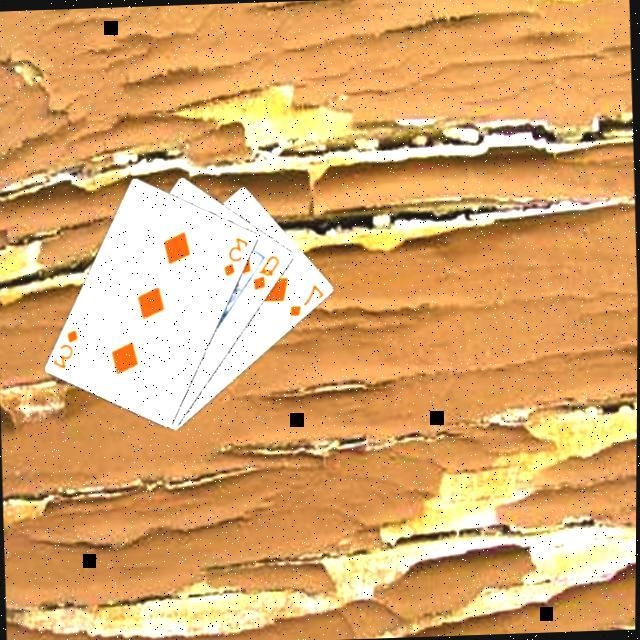3D: (51, 324, 85, 371), (220, 232, 254, 278)
7D: (288, 280, 328, 318)
QD: (251, 249, 285, 292)
